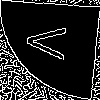V: (25, 24, 77, 62)
